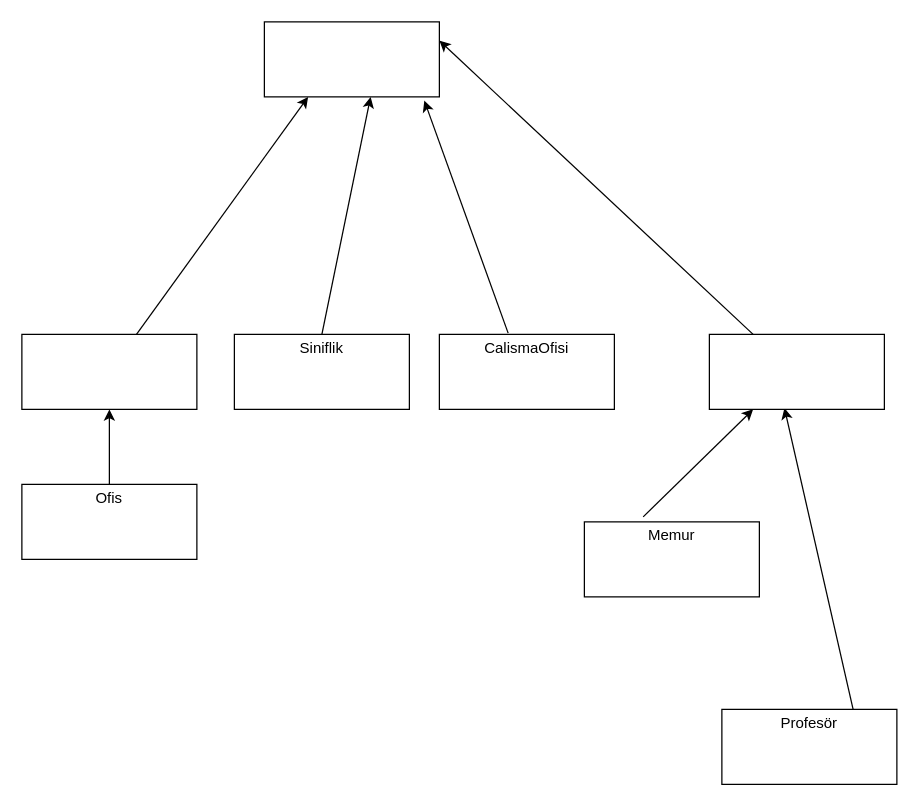
Some shapes in this 919 by 806 pixel diagram are drawn without their labels. Here are the shapes that lost their labels. From the top down, the centre of each, then its label:
the point at 351,59: University
the point at 109,371: Department
the point at 796,371: Calisan
